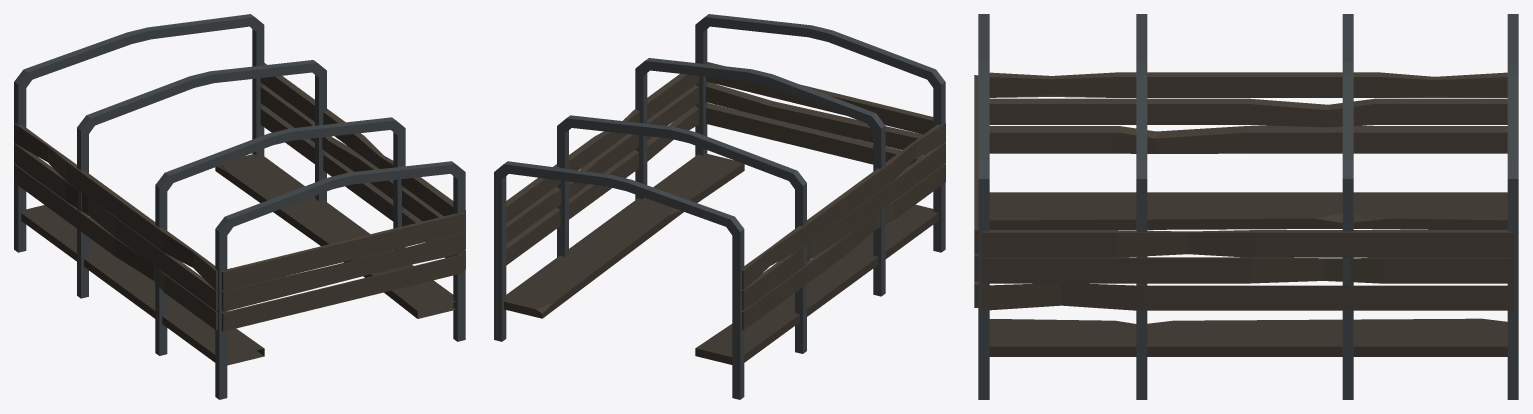
File: SM_Veh_Truck_01_Canopy_Structure.fbx
3 views of the same model, side by side, from view 1: azimuth 30°, elevation 25°; view 2: azimuth 150°, elevation 25°; view 3: azimuth 270°, elevation 25° (orthographic). The views are drawn at different scales.
Visible parts, largest first — view 1: SM_Veh_Truck_01_Canopy_Structure; view 2: SM_Veh_Truck_01_Canopy_Structure; view 3: SM_Veh_Truck_01_Canopy_Structure.
Boxes of the visible parts, box(x1,y1,x2,y2) form: SM_Veh_Truck_01_Canopy_Structure: box(14, 14, 465, 399); SM_Veh_Truck_01_Canopy_Structure: box(494, 14, 945, 399); SM_Veh_Truck_01_Canopy_Structure: box(974, 14, 1518, 399).
Bounding box in the file's own units: 251 × 184 × 360.
